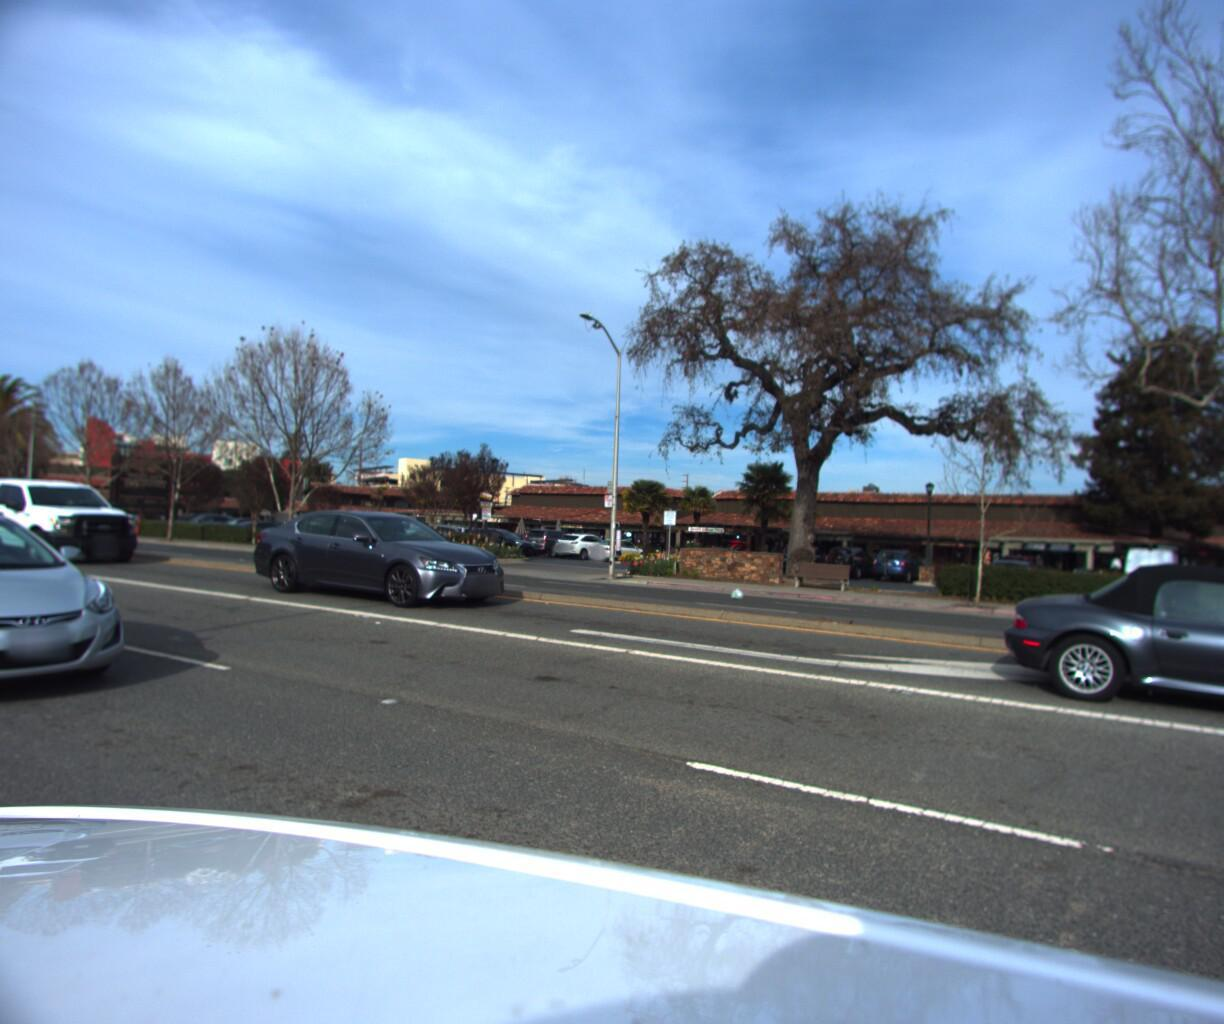car: (989, 545, 1224, 751), (0, 495, 170, 729), (241, 509, 522, 613), (0, 480, 154, 573), (973, 552, 1043, 598)
